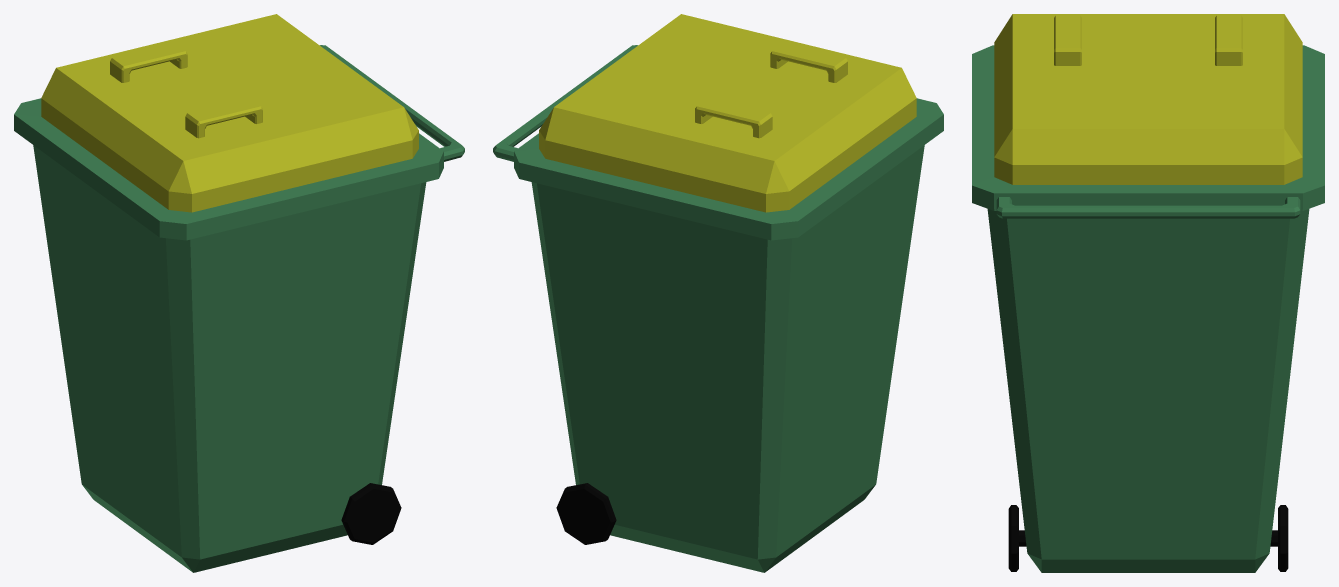
Rendered from garbage_can.glb.
3 renders of one model, left to right at view 1: azimuth 30°, elevation 25°; view 2: azimuth 150°, elevation 25°; view 3: azimuth 270°, elevation 25°, orthographic. The views are drawn at different scales.
Parts seen in each view (by area): view 1: GarbageCan; view 2: GarbageCan; view 3: GarbageCan.
Boxes of the visible parts, <box> form: GarbageCan: <box>14,14,464,572</box>; GarbageCan: <box>493,14,943,572</box>; GarbageCan: <box>972,14,1324,572</box>.
Size of the model in its own units: 0.7195 by 0.9904 by 0.666.
